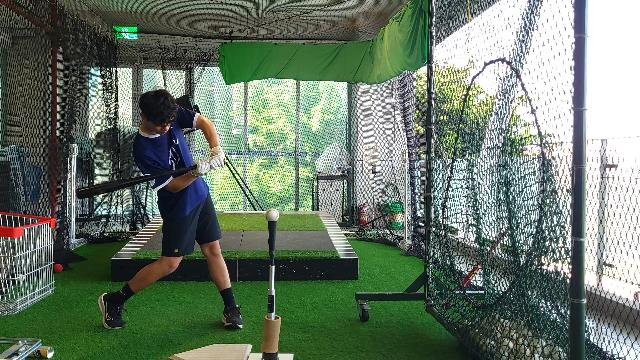baseball bat: (74, 165, 198, 199)
